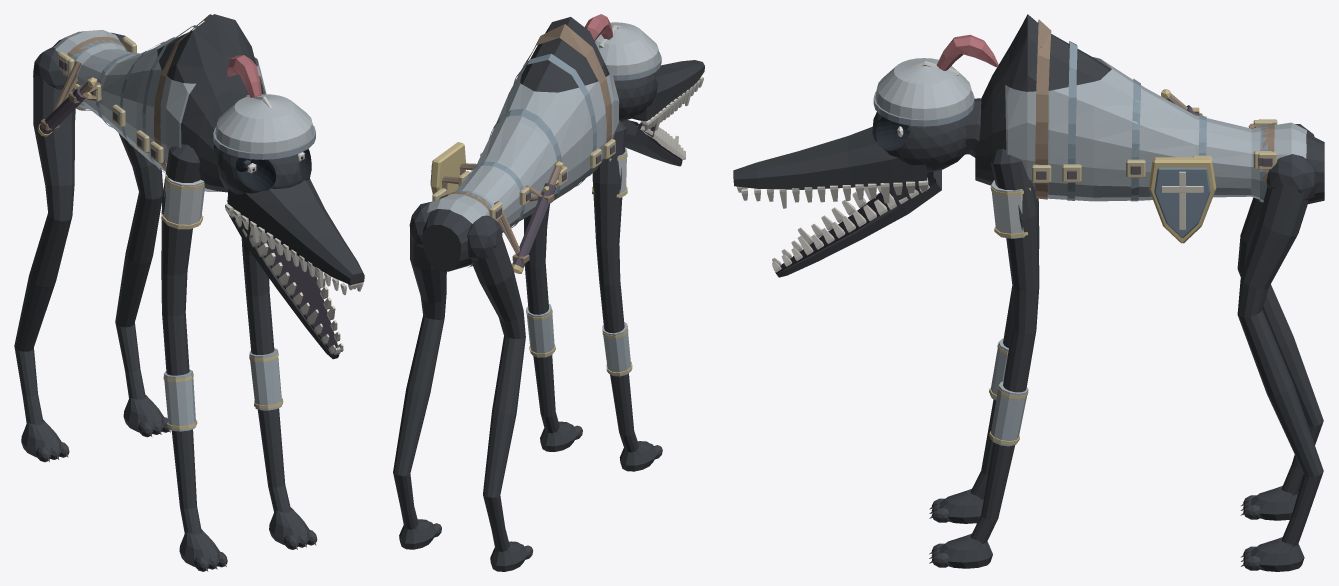
The model's file is LongmawKnight.glb.
The picture shows the model from 3 angles, left to right: view 1: azimuth 30°, elevation 25°; view 2: azimuth 150°, elevation 25°; view 3: azimuth 270°, elevation 25°; orthographic projection. The views are drawn at different scales.
Visible parts, largest first — view 1: Head, Body, ArmR, LegR, ArmL, LegL; view 2: Body, LegR, Head, ArmR, LegL, ArmL; view 3: Body, Head, LegL, ArmL, LegR, ArmR.
Boxes of the visible parts, x1,y1,x2,y2 form: Head: [213, 55, 364, 359]; Body: [37, 14, 266, 192]; ArmR: [161, 144, 227, 571]; LegR: [14, 47, 75, 462]; ArmL: [241, 238, 317, 549]; LegL: [111, 32, 170, 437]; Body: [422, 17, 619, 273]; LegR: [467, 215, 533, 571]; Head: [585, 14, 704, 166]; ArmR: [592, 120, 662, 471]; LegL: [393, 201, 446, 549]; ArmL: [524, 204, 582, 451]; Body: [975, 14, 1324, 243]; Head: [733, 34, 998, 277]; LegL: [1237, 154, 1323, 571]; ArmL: [929, 148, 1039, 568]; LegR: [1237, 124, 1323, 520]; ArmR: [929, 198, 1039, 523].
Bounding box in the file's own units: 1.95 × 6.9 × 7.03.
